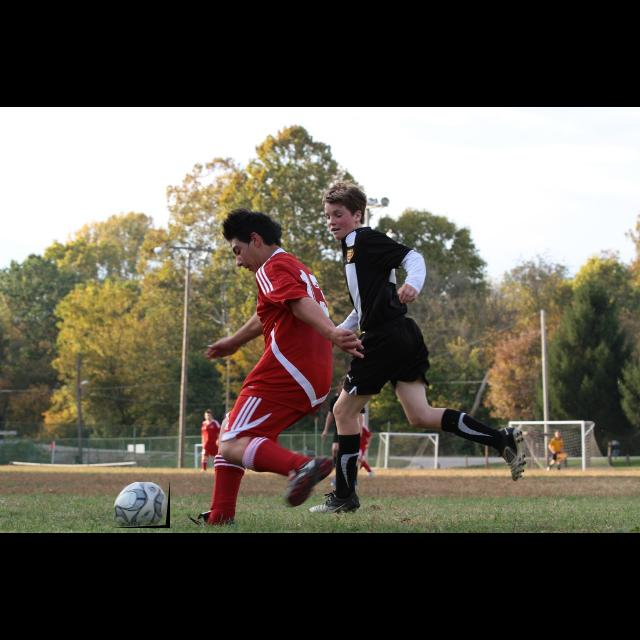Football: (114, 482, 170, 528)
